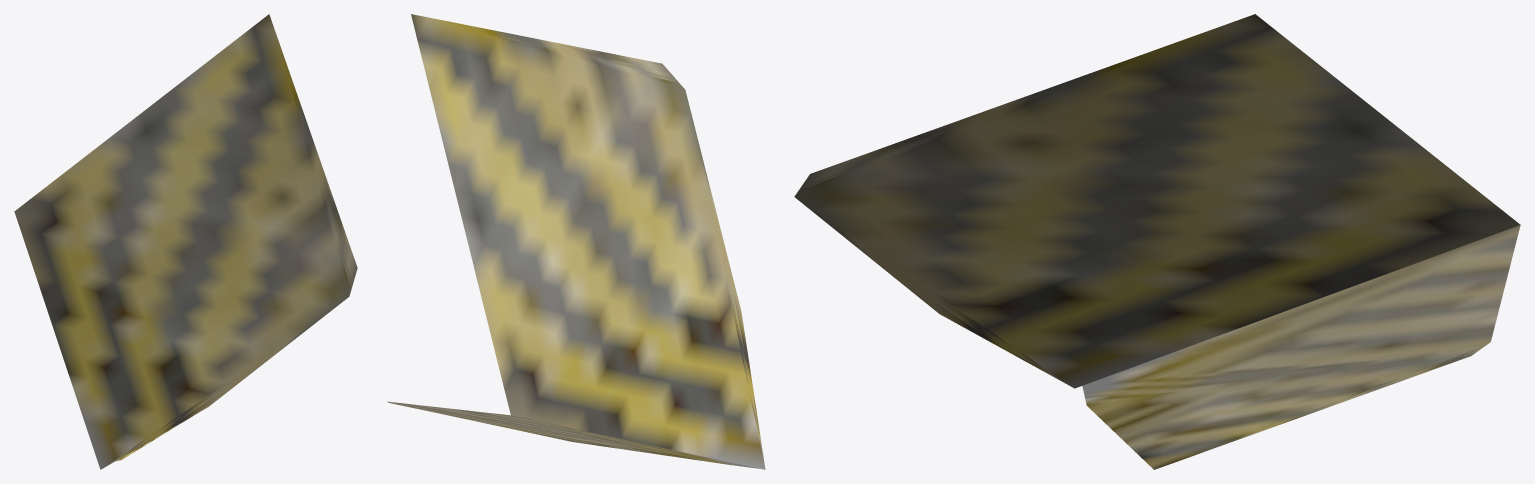
Rendered from guard-left.glb.
3 views of the same model, side by side, from view 1: azimuth 30°, elevation 25°; view 2: azimuth 150°, elevation 25°; view 3: azimuth 270°, elevation 25° (orthographic). The views are drawn at different scales.
Visible parts, largest first — view 1: v-guard-left-panel-1; view 2: v-guard-left-panel-1, v-guard-left-panel-2; view 3: v-guard-left-panel-1, v-guard-left-panel-2.
Part boxes in pixels (x1,y1,x2,y2): v-guard-left-panel-1: (14,14,357,469); v-guard-left-panel-1: (411,14,765,469); v-guard-left-panel-2: (387,401,759,468); v-guard-left-panel-1: (794,14,1520,388); v-guard-left-panel-2: (1082,225,1520,469).
Size of the model in its own units: 0.628 by 0.9397 by 1.14.
